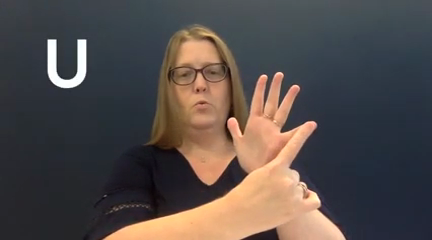U: (223, 68, 324, 234)
